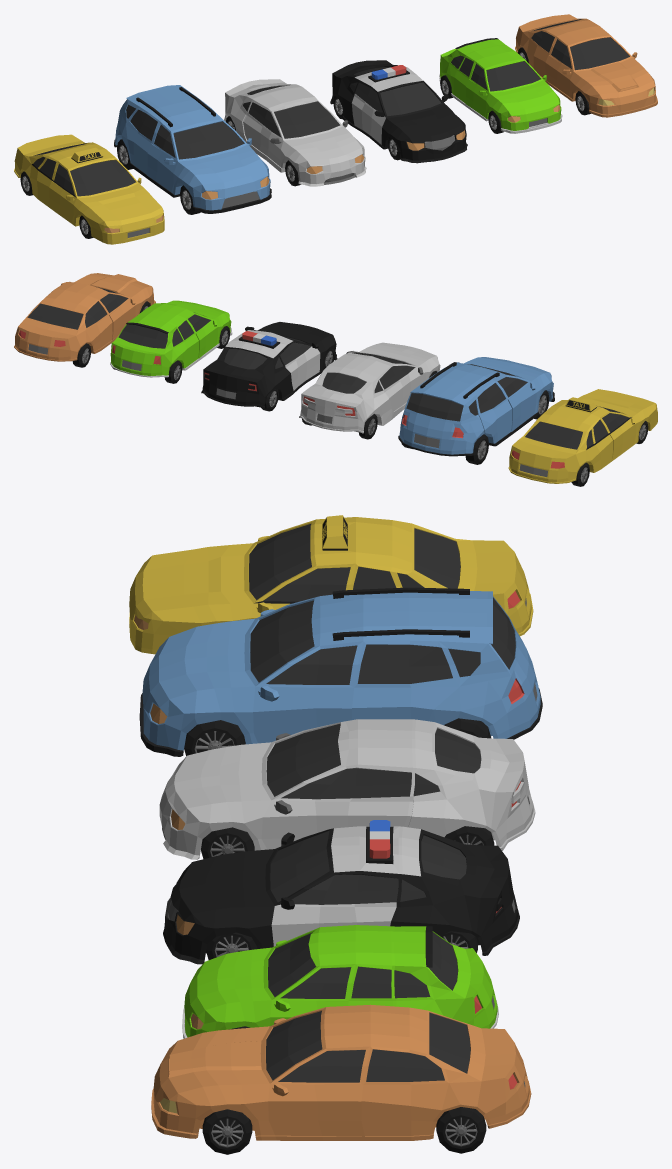
The model's file is Cars Bundle.fbx.
The picture shows the model from 3 angles, top to bottom: view 1: azimuth 30°, elevation 25°; view 2: azimuth 150°, elevation 25°; view 3: azimuth 270°, elevation 25°; orthographic projection. The views are drawn at different scales.
Visible parts, largest first — view 1: SUV, Taxi, SportsCar2, Cop, SportsCar, NormalCar2; view 2: SUV, Taxi, SportsCar2, SportsCar, Cop, NormalCar2; view 3: SUV, SportsCar, SportsCar2, Cop, Taxi, NormalCar2.
Part boxes in pixels (x1=…): SUV: x1=114, y1=85, x2=271, y2=214; Taxi: x1=14, y1=134, x2=164, y2=244; SportsCar2: x1=224, y1=79, x2=366, y2=186; Cop: x1=330, y1=60, x2=467, y2=163; SportsCar: x1=515, y1=14, x2=657, y2=117; NormalCar2: x1=439, y1=38, x2=562, y2=133; SUV: x1=398, y1=357, x2=554, y2=464; Taxi: x1=508, y1=389, x2=657, y2=486; SportsCar2: x1=299, y1=342, x2=440, y2=439; SportsCar: x1=14, y1=273, x2=155, y2=367; Cop: x1=201, y1=322, x2=337, y2=411; NormalCar2: x1=110, y1=300, x2=232, y2=383; SUV: x1=139, y1=587, x2=542, y2=756; SportsCar: x1=151, y1=1004, x2=531, y2=1154; SportsCar2: x1=159, y1=719, x2=535, y2=859; Cop: x1=163, y1=820, x2=519, y2=964; Taxi: x1=129, y1=515, x2=533, y2=654; NormalCar2: x1=182, y1=925, x2=498, y2=1038.
Size of the model in its own units: 1377 by 154 by 432.
